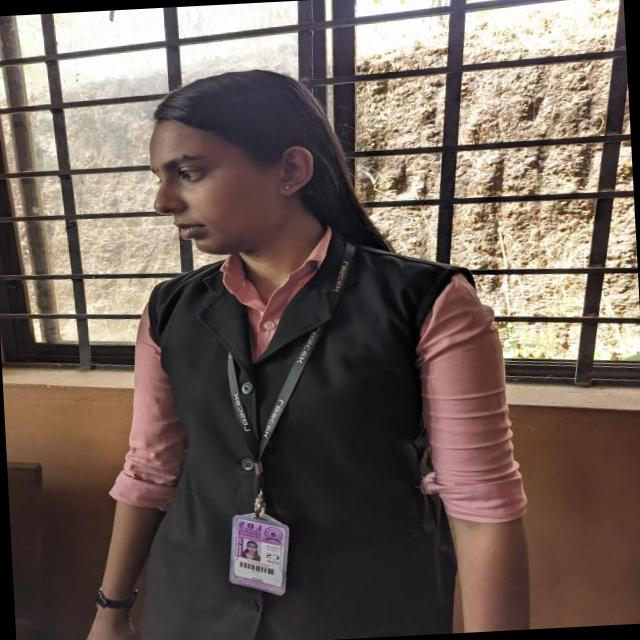id_card: (208, 247, 351, 594)
